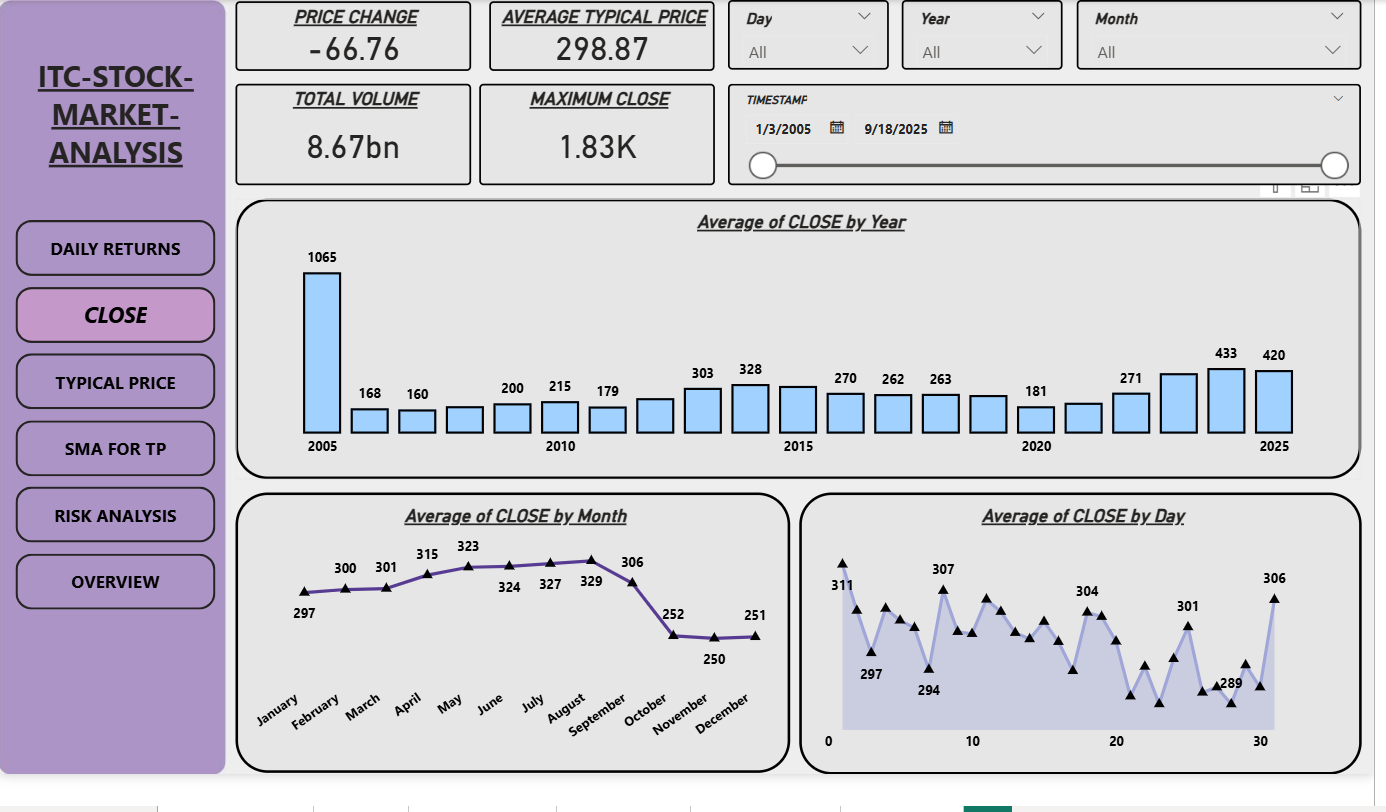

What the dashboard file says about the page in this screenshot:
{"tool":"powerbi","page":{"name":"CLOSE","canvas":[1280,720],"ordinal":1},"visuals":[{"type":"columnChart","fields":{"Category":["FINAL_ITC_STOCK_UPDATED_TABLE.TIMESTAMP.Variation.Date Hierarchy.Year"],"Y":["Avg(FINAL_ITC_STOCK_UPDATED_TABLE.CLOSE)"]},"box":[220.9,185.2,1047,260.7],"z":0},{"type":"lineChart","fields":{"Category":["FINAL_ITC_STOCK_UPDATED_TABLE.TIMESTAMP.Variation.Date Hierarchy.Month"],"Y":["Avg(FINAL_ITC_STOCK_UPDATED_TABLE.CLOSE)"]},"box":[220.9,458.3,516,260.7],"z":1000},{"type":"areaChart","fields":{"Category":["FINAL_ITC_STOCK_UPDATED_TABLE.TIMESTAMP.Variation.Date Hierarchy.Day"],"Y":["Avg(FINAL_ITC_STOCK_UPDATED_TABLE.CLOSE)"]},"box":[745.1,458.3,522.8,262.1],"z":2000},{"type":"textbox","box":[16.5,48,186.6,124.9],"z":3000},{"type":"pageNavigator","box":[16.5,204.5,186.6,362],"z":4000},{"type":"card","title":"TOTAL VOLUME","fields":{"Values":["Sum(FINAL_ITC_STOCK_UPDATED_TABLE.VOLUME)"]},"box":[220.9,78.2,219.6,94.7],"z":5000},{"type":"card","title":"AVERAGE TYPICAL PRICE","fields":{"Values":["Avg(FINAL_ITC_STOCK_UPDATED_TABLE.TYPICAL_PRICE)"]},"box":[456.9,1.4,209.9,64.5],"z":6000},{"type":"slicer","fields":{"Values":["FINAL_ITC_STOCK_UPDATED_TABLE.TIMESTAMP.Variation.Date Hierarchy.Year"]},"box":[841.2,0,149.6,64.5],"z":7000},{"type":"slicer","fields":{"Values":["FINAL_ITC_STOCK_UPDATED_TABLE.TIMESTAMP.Variation.Date Hierarchy.Month"]},"box":[1003.1,0,264.8,64.5],"z":8000},{"type":"slicer","fields":{"Values":["FINAL_ITC_STOCK_UPDATED_TABLE.TIMESTAMP.Variation.Date Hierarchy.Day"]},"box":[679.2,0,149.6,64.5],"z":9000},{"type":"card","title":"MAXIMUM CLOSE","fields":{"Values":["Max(FINAL_ITC_STOCK_UPDATED_TABLE.CLOSE)"]},"box":[447.3,78.2,219.6,94.7],"z":10000},{"type":"card","title":"PRICE CHANGE","fields":{"Values":["FINAL_ITC_STOCK_UPDATED_TABLE.Price_Change%"]},"box":[220.9,1.4,219.6,64.5],"z":11000},{"type":"slicer","fields":{"Values":["FINAL_ITC_STOCK_UPDATED_TABLE.TIMESTAMP"]},"box":[679.2,78.2,588.7,94.7],"z":12000}]}

Visuals, with their boxes on the page's 1280x720 design canvas (x1, y1, x2, y2). These are canvas units, not pixel positions in the 1386x812 screenshot, which may show the page scaled, cropped or inside an application window:
columnChart - FINAL_ITC_STOCK_UPDATED_TABLE.TIMESTAMP.Variation.Date Hierarchy.Year x Avg(FINAL_ITC_STOCK_UPDATED_TABLE.CLOSE): select_region(221, 185, 1268, 446)
lineChart - FINAL_ITC_STOCK_UPDATED_TABLE.TIMESTAMP.Variation.Date Hierarchy.Month x Avg(FINAL_ITC_STOCK_UPDATED_TABLE.CLOSE): select_region(221, 458, 737, 719)
areaChart - FINAL_ITC_STOCK_UPDATED_TABLE.TIMESTAMP.Variation.Date Hierarchy.Day x Avg(FINAL_ITC_STOCK_UPDATED_TABLE.CLOSE): select_region(745, 458, 1268, 720)
textbox: select_region(16, 48, 203, 173)
pageNavigator: select_region(16, 204, 203, 566)
"TOTAL VOLUME" card: select_region(221, 78, 440, 173)
"AVERAGE TYPICAL PRICE" card: select_region(457, 1, 667, 66)
slicer - FINAL_ITC_STOCK_UPDATED_TABLE.TIMESTAMP.Variation.Date Hierarchy.Year: select_region(841, 0, 991, 64)
slicer - FINAL_ITC_STOCK_UPDATED_TABLE.TIMESTAMP.Variation.Date Hierarchy.Month: select_region(1003, 0, 1268, 64)
slicer - FINAL_ITC_STOCK_UPDATED_TABLE.TIMESTAMP.Variation.Date Hierarchy.Day: select_region(679, 0, 829, 64)
"MAXIMUM CLOSE" card: select_region(447, 78, 667, 173)
"PRICE CHANGE" card: select_region(221, 1, 440, 66)
slicer - FINAL_ITC_STOCK_UPDATED_TABLE.TIMESTAMP: select_region(679, 78, 1268, 173)
